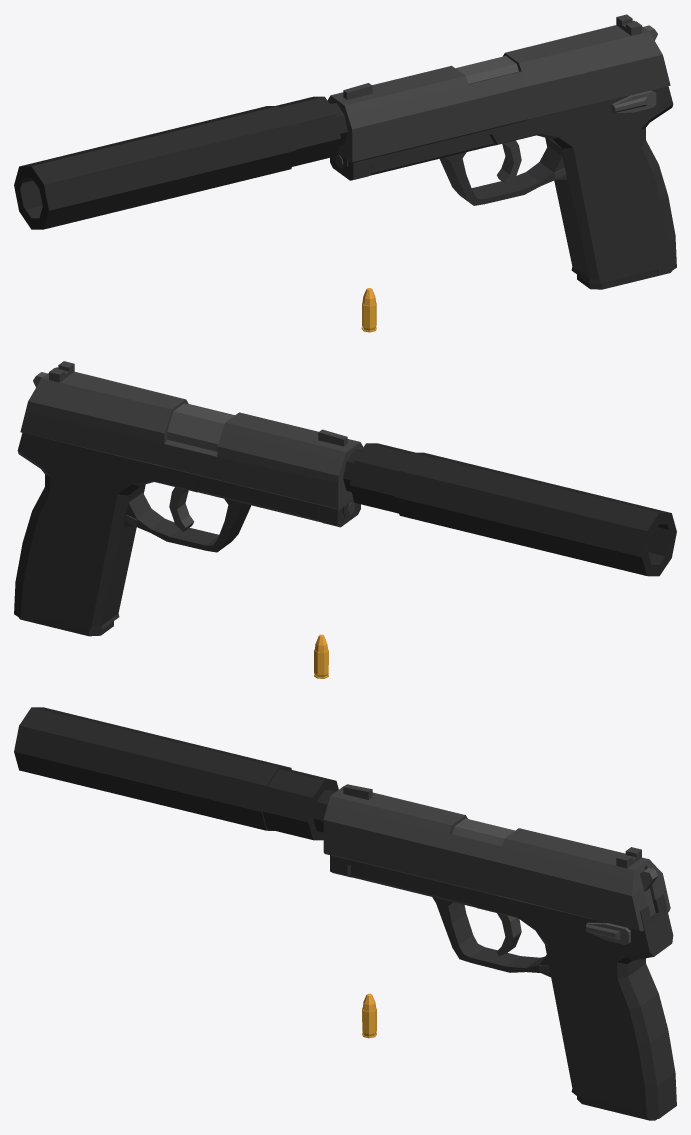
File: USP.fbx
3 renders of one model, top to bottom at view 1: azimuth 30°, elevation 25°; view 2: azimuth 150°, elevation 25°; view 3: azimuth 330°, elevation 25°, orthographic.
Visible parts, largest first — view 1: USP, Suppressor, Mag, Bullet; view 2: USP, Suppressor, Mag, Bullet; view 3: USP, Suppressor.
Part boxes in pixels (bbox=[...]): USP: bbox=[327, 14, 676, 283]; Suppressor: bbox=[14, 96, 347, 229]; Mag: bbox=[577, 269, 671, 289]; Bullet: bbox=[361, 288, 376, 332]; USP: bbox=[14, 361, 363, 629]; Suppressor: bbox=[343, 443, 676, 576]; Mag: bbox=[18, 616, 113, 636]; Bullet: bbox=[314, 634, 328, 678]; USP: bbox=[323, 784, 676, 1118]; Suppressor: bbox=[14, 707, 338, 840].
Bounding box in the file's own units: 830 × 315 × 79.13.
Materials: 1 (1 with a texture image).
